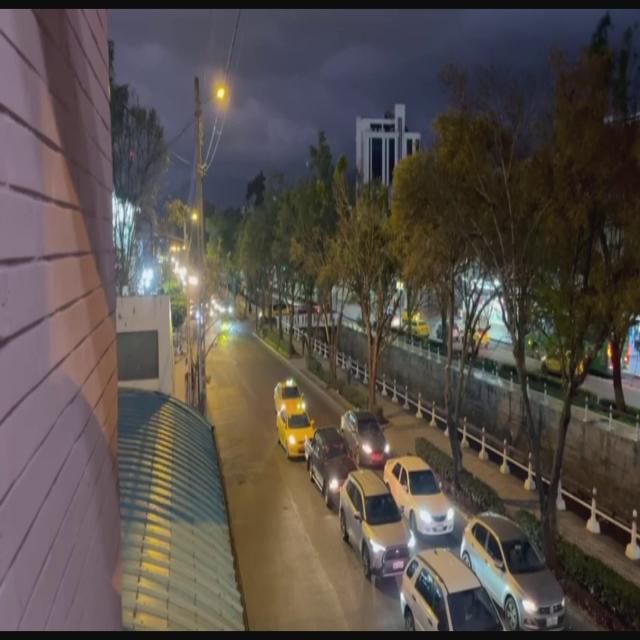CMT: (308, 428, 355, 505)
